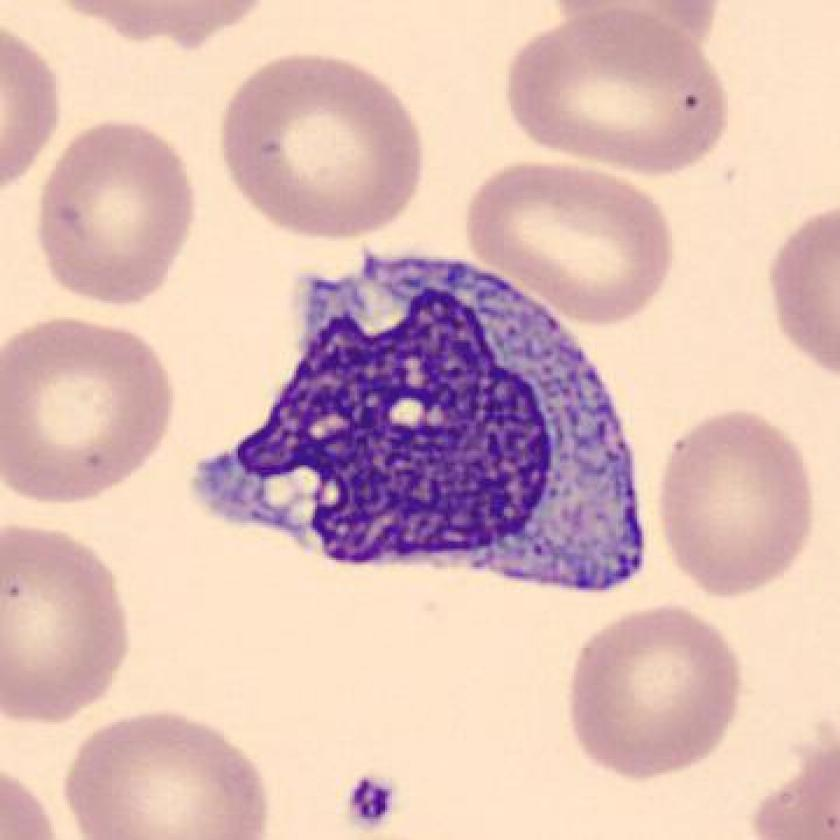monocyte: (174, 228, 654, 621)
